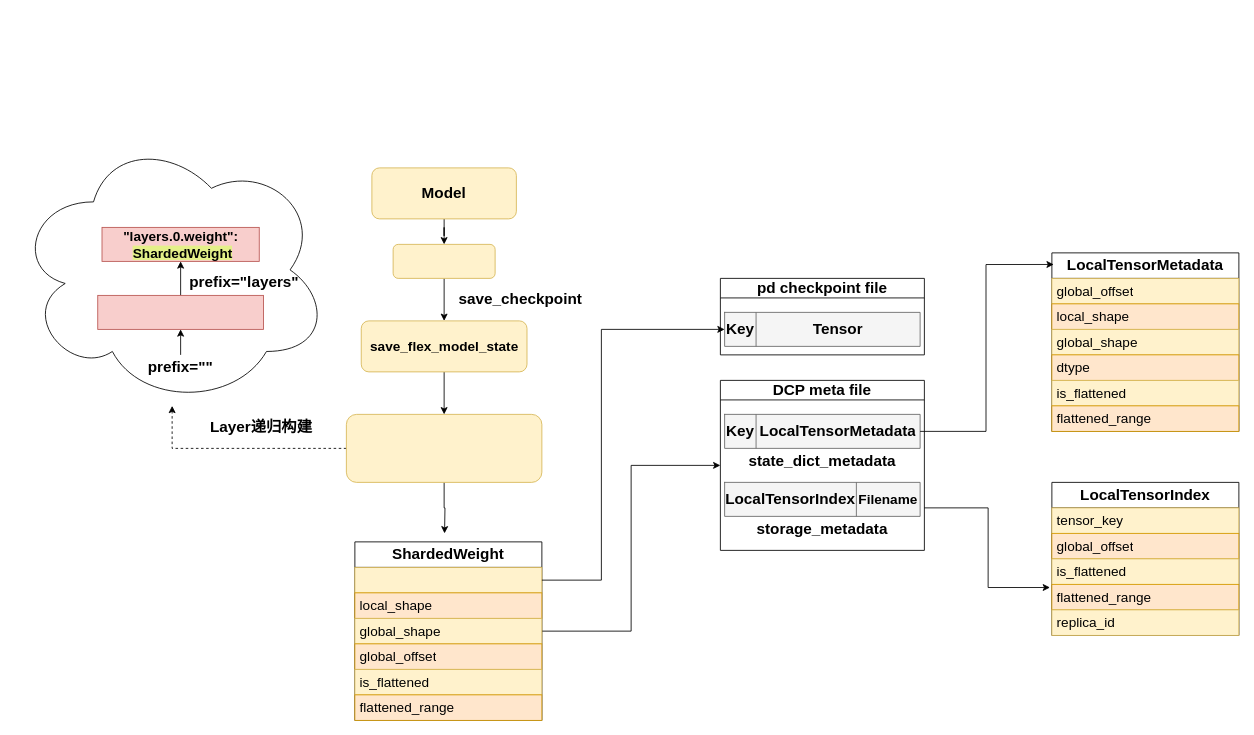
The diagram is 1254 pixels wide and 735 high, and some of its shapes have lost their labels. Here are the shapes that lost their labels. From the top down, the centre of each, then its label:
pixel 443 261: Trainer
pixel 180 312: "embed_tokens.weight": ShardedWeight
pixel 444 448: build_shard_state_dict
pixel 448 580: local_tensor
